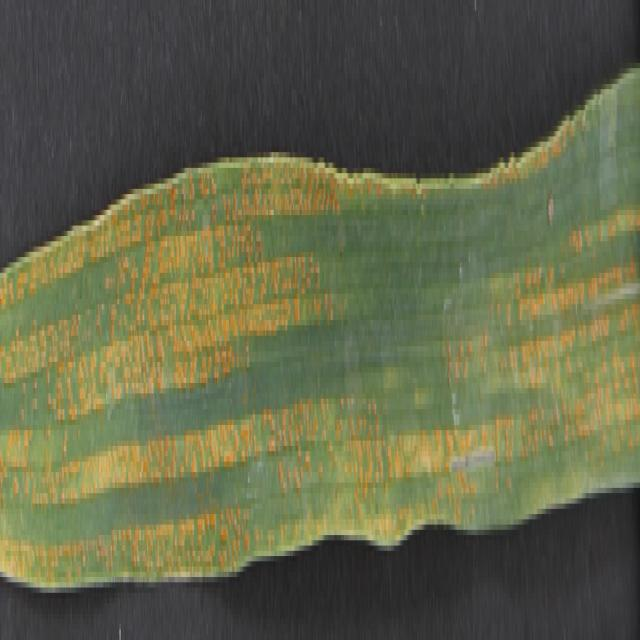leaf rust: (1, 163, 638, 619)
